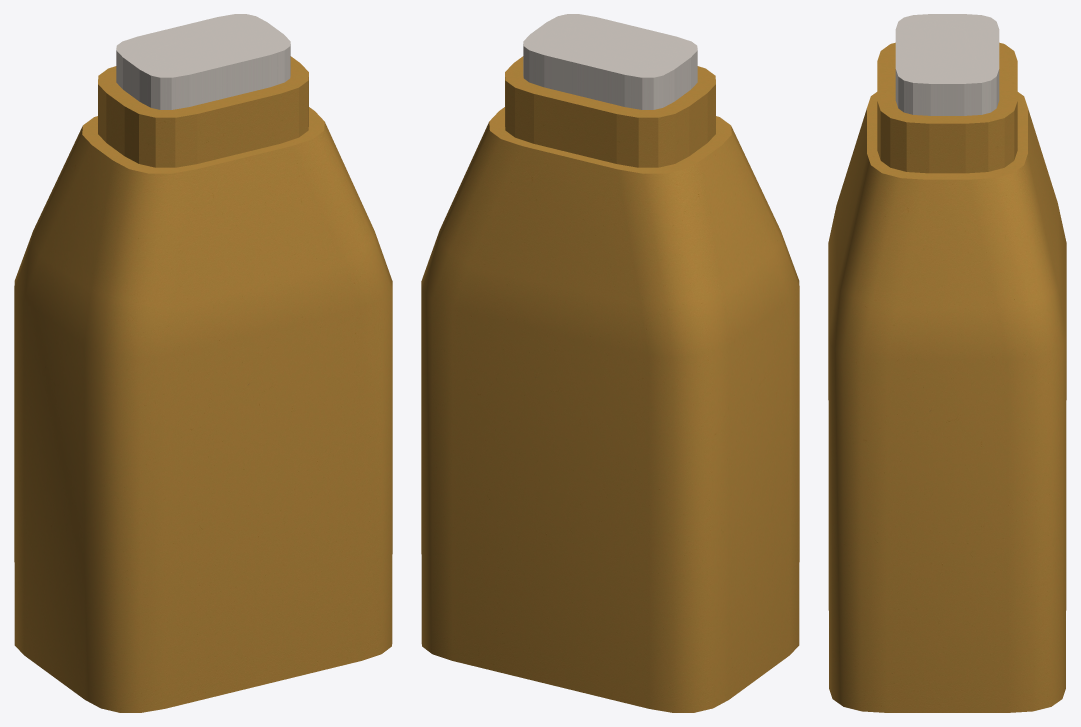
The model's file is SM_Oilbox_01.fbx.
The picture shows the model from 3 angles, left to right: view 1: azimuth 30°, elevation 25°; view 2: azimuth 150°, elevation 25°; view 3: azimuth 270°, elevation 25°; orthographic projection.
Parts seen in each view (by area): view 1: SM_Oilbox_01; view 2: SM_Oilbox_01; view 3: SM_Oilbox_01.
Part boxes in pixels (x1,y1,x2,y2): SM_Oilbox_01: [14, 14, 392, 712]; SM_Oilbox_01: [421, 14, 799, 712]; SM_Oilbox_01: [828, 14, 1066, 712].
Size of the model in its own units: 20.53 by 39.1 by 14.26.
Materials: 2 (2 with a texture image).
